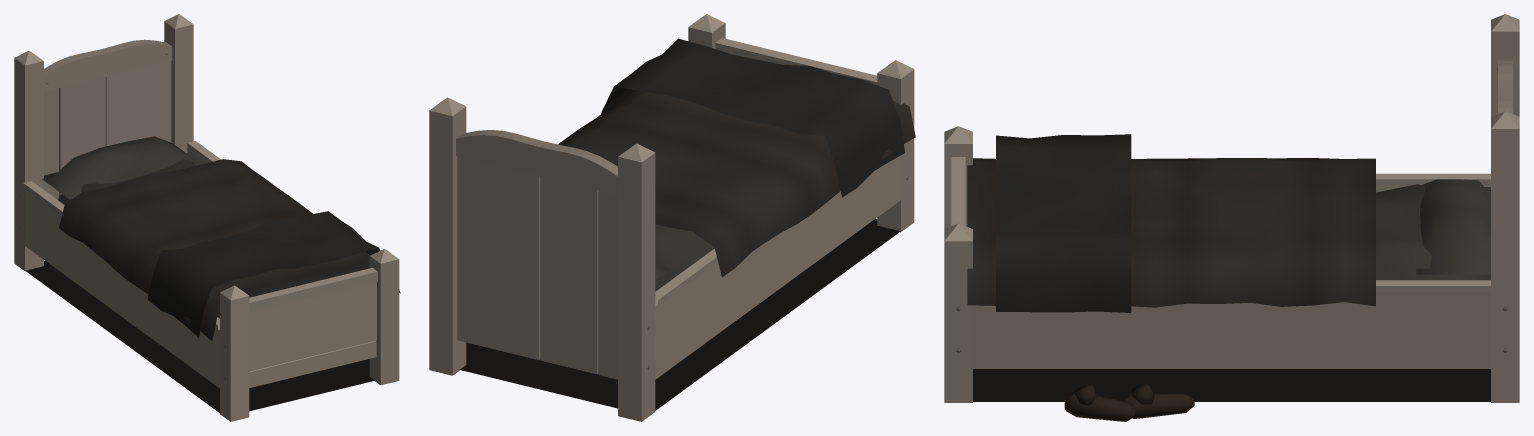
File: prop_inn_bed_taken.glb
The picture shows the model from 3 angles, left to right: view 1: azimuth 30°, elevation 25°; view 2: azimuth 150°, elevation 25°; view 3: azimuth 270°, elevation 25°; orthographic projection. The views are drawn at different scales.
Parts seen in each view (by area): view 1: InnBedTaken, InnBedTakenSoft; view 2: InnBedTaken, InnBedTakenSoft; view 3: InnBedTakenSoft, InnBedTaken.
Boxes of the visible parts, x1=… form: InnBedTaken: x1=14, y1=14, x2=399, y2=421; InnBedTakenSoft: x1=42, y1=136, x2=400, y2=341; InnBedTaken: x1=429, y1=14, x2=914, y2=421; InnBedTakenSoft: x1=558, y1=38, x2=915, y2=291; InnBedTakenSoft: x1=967, y1=134, x2=1490, y2=421; InnBedTaken: x1=944, y1=14, x2=1519, y2=402.
Size of the model in its own units: 1.15 by 1.1 by 2.
